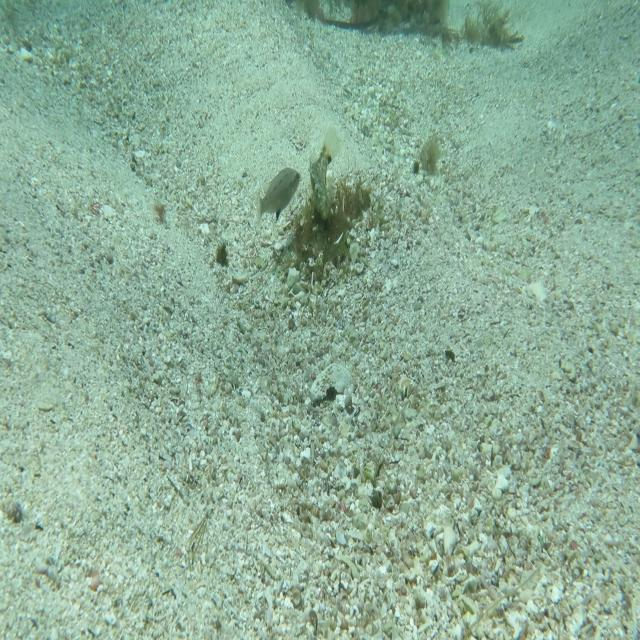ROLL: (306, 124, 344, 228)
female: (254, 165, 304, 229)
nest: (272, 162, 375, 298)
